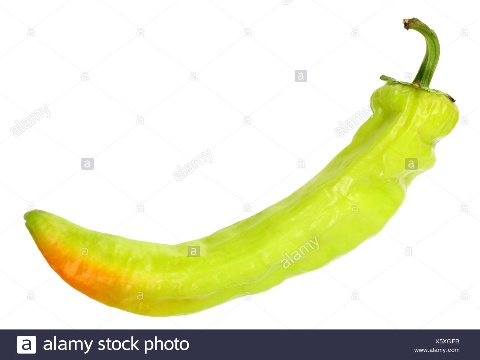Chilli: (21, 9, 465, 315)
